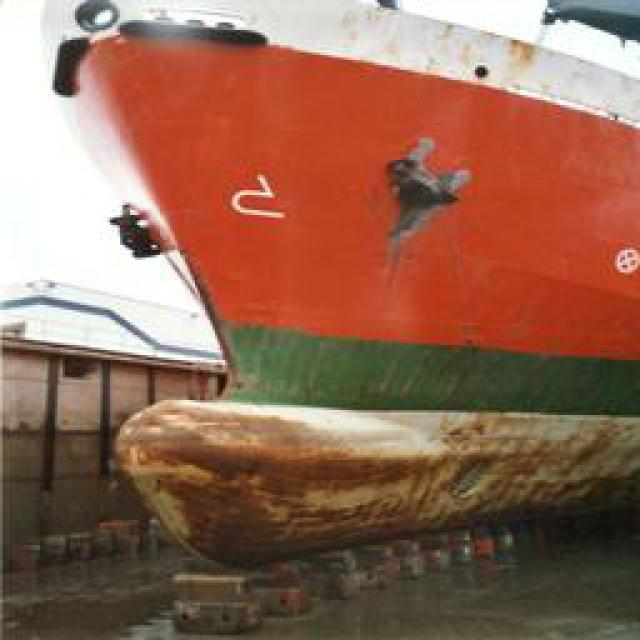Ship: (71, 13, 640, 531)
